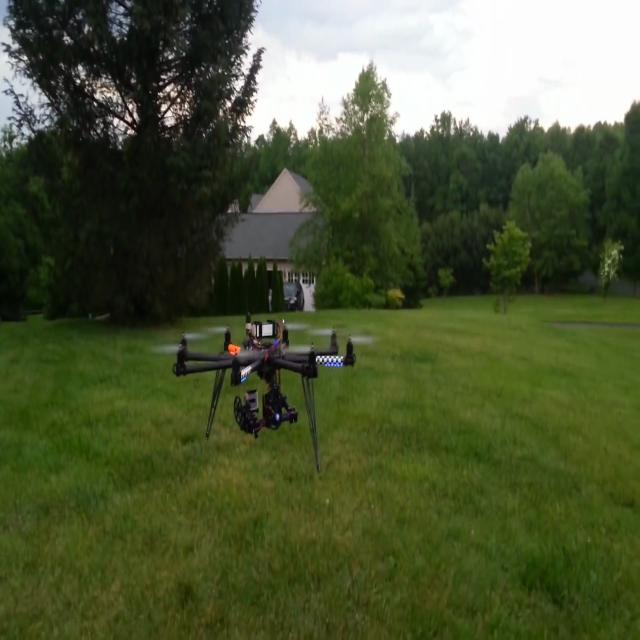drone: (179, 278, 353, 478)
